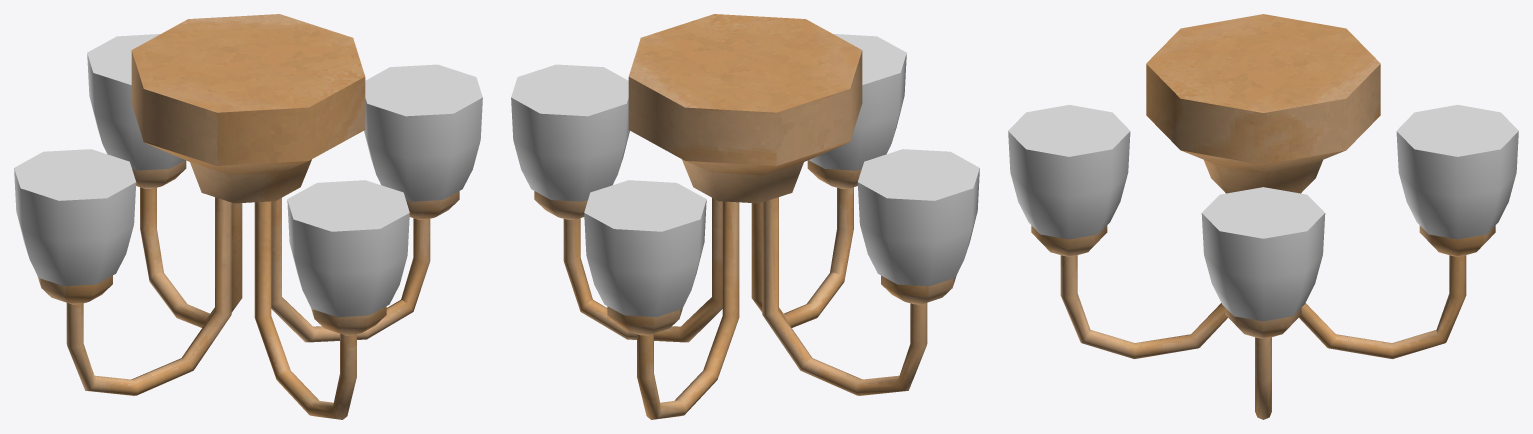
The model's file is chandelier.fbx.
The picture shows the model from 3 angles, left to right: view 1: azimuth 30°, elevation 25°; view 2: azimuth 150°, elevation 25°; view 3: azimuth 270°, elevation 25°; orthographic projection. The views are drawn at different scales.
Parts seen in each view (by area): view 1: Light_Chandelier; view 2: Light_Chandelier; view 3: Light_Chandelier.
Boxes of the visible parts, x1,y1,x2,y2 form: Light_Chandelier: [14, 14, 482, 419]; Light_Chandelier: [511, 14, 979, 419]; Light_Chandelier: [1008, 14, 1518, 419].
Bounding box in the file's own units: 85.09 × 54.29 × 85.09.
